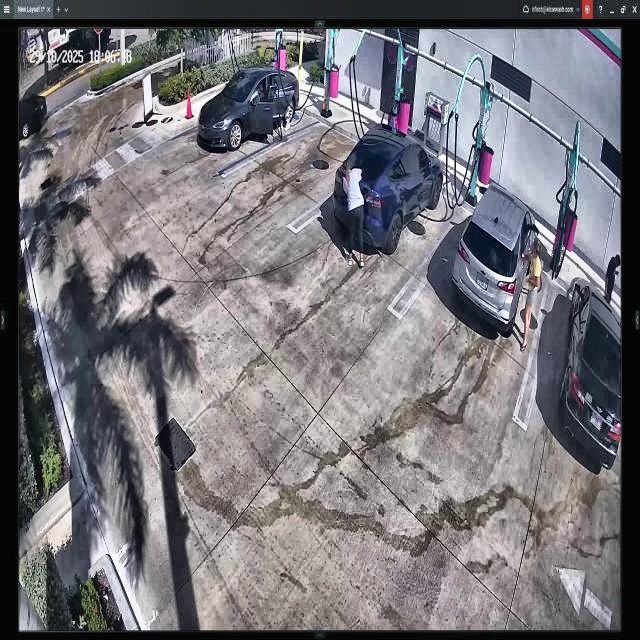Car: (336, 128, 444, 250), (456, 192, 534, 327), (193, 66, 299, 147)
